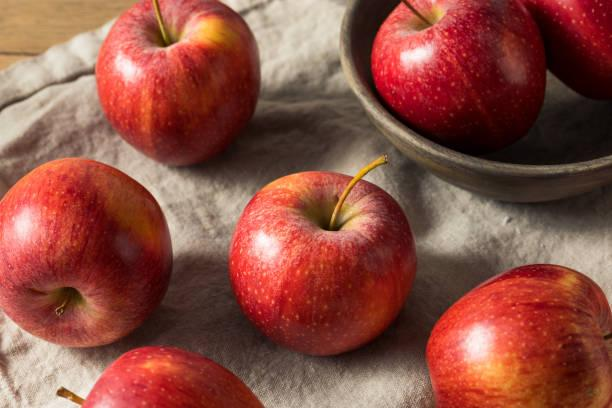apple: (217, 160, 421, 373), (2, 153, 172, 352), (362, 0, 550, 168), (96, 0, 274, 169), (428, 255, 612, 408), (48, 347, 270, 408)
